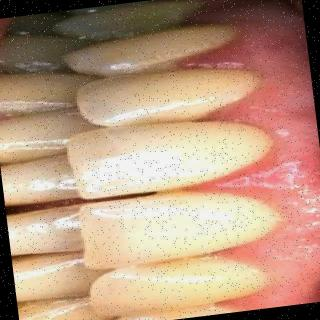Gum Swelling: (175, 11, 301, 201)
